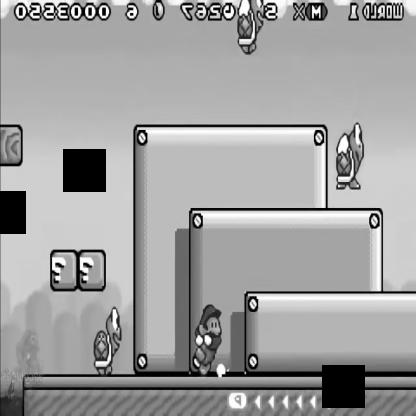Mario: (191, 302, 223, 375)
koopa: (92, 309, 123, 377), (334, 125, 364, 195), (238, 0, 265, 52)
moneda: (152, 0, 164, 24)
